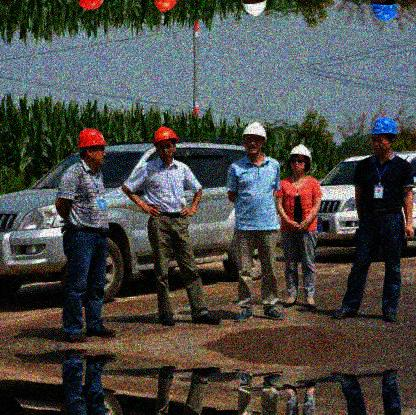helmet: (368, 118, 399, 161), (76, 127, 107, 168), (150, 124, 177, 164), (239, 121, 266, 158), (287, 145, 314, 178)
